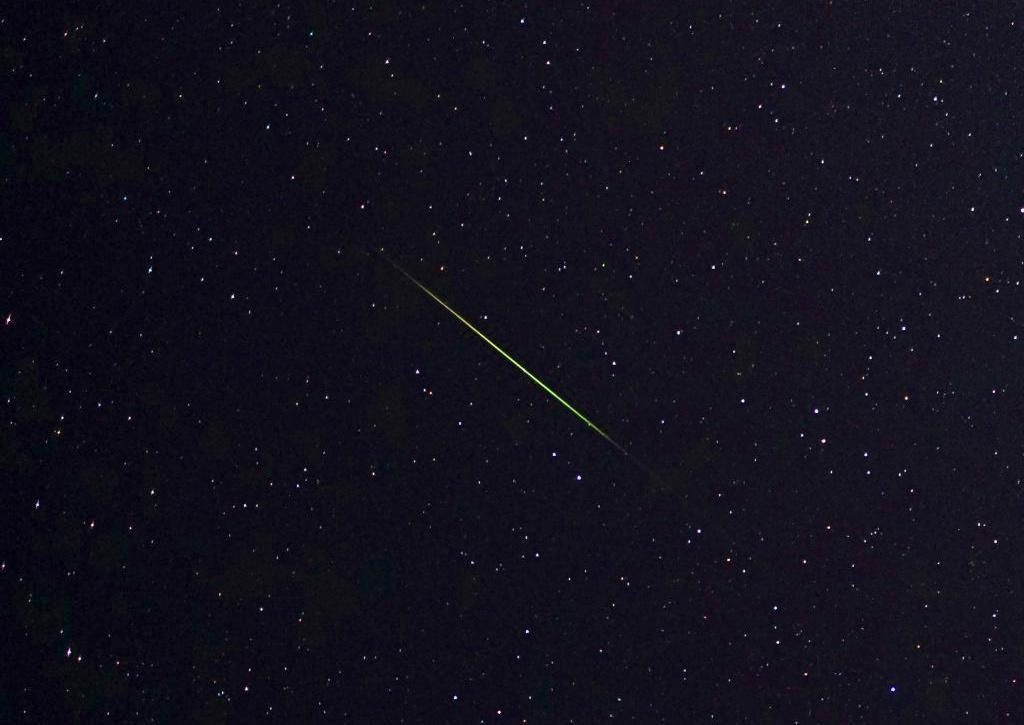meteorite: (460, 277, 664, 494)
